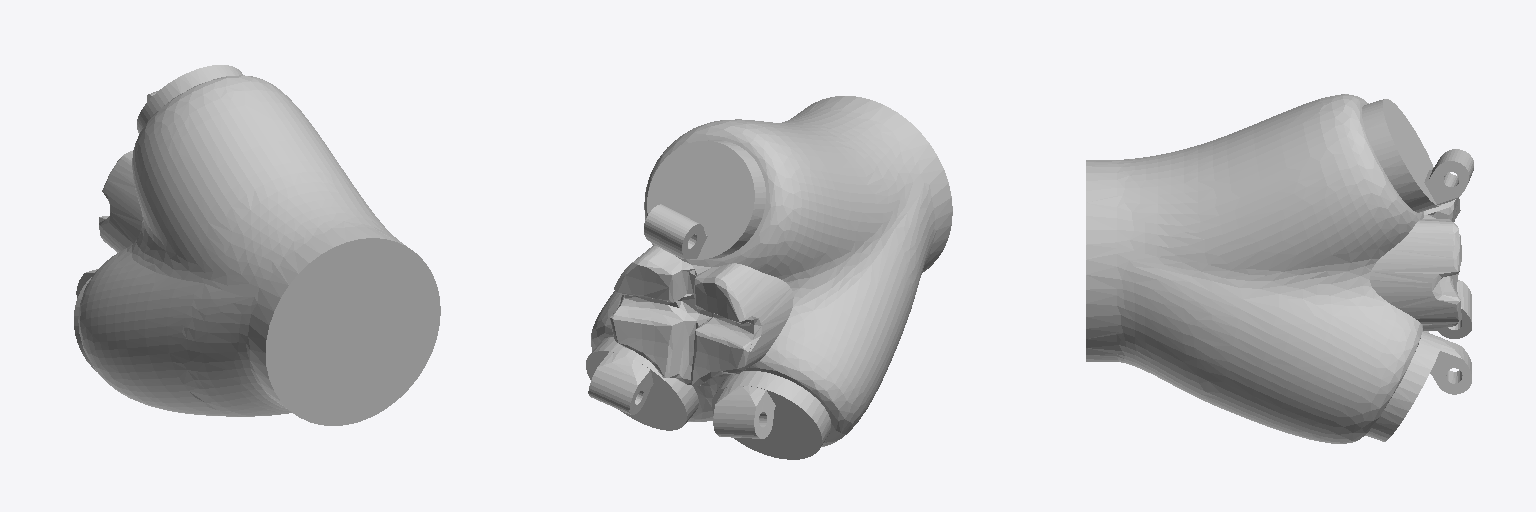
Rendered from hand_3finger_2.obj.
3 views of the same model, side by side, from view 1: azimuth 30°, elevation 25°; view 2: azimuth 150°, elevation 25°; view 3: azimuth 270°, elevation 25° (orthographic).
Size of the model in its own units: 0.0927 by 0.1052 by 0.121.